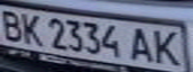2: (42, 15, 66, 51)
3: (81, 19, 103, 56), (63, 17, 84, 53)
4: (100, 21, 127, 59)
A: (127, 25, 157, 63)
B: (0, 7, 27, 42)
K: (148, 27, 187, 68), (18, 11, 45, 46)
